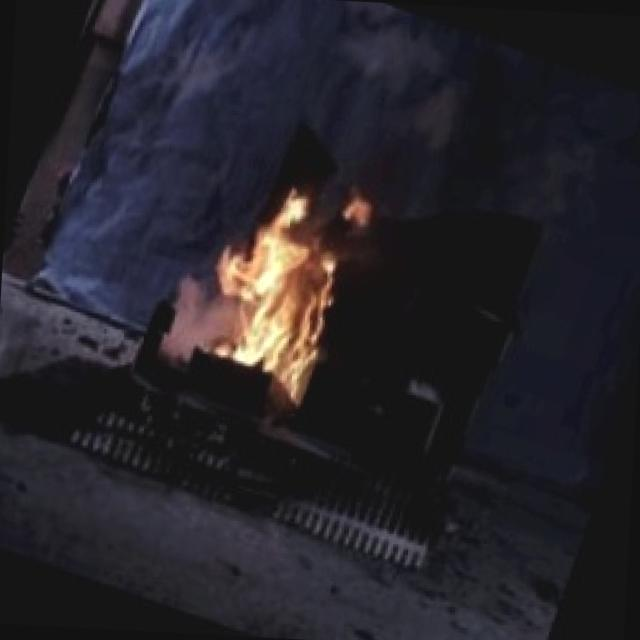fire: (171, 140, 394, 408)
